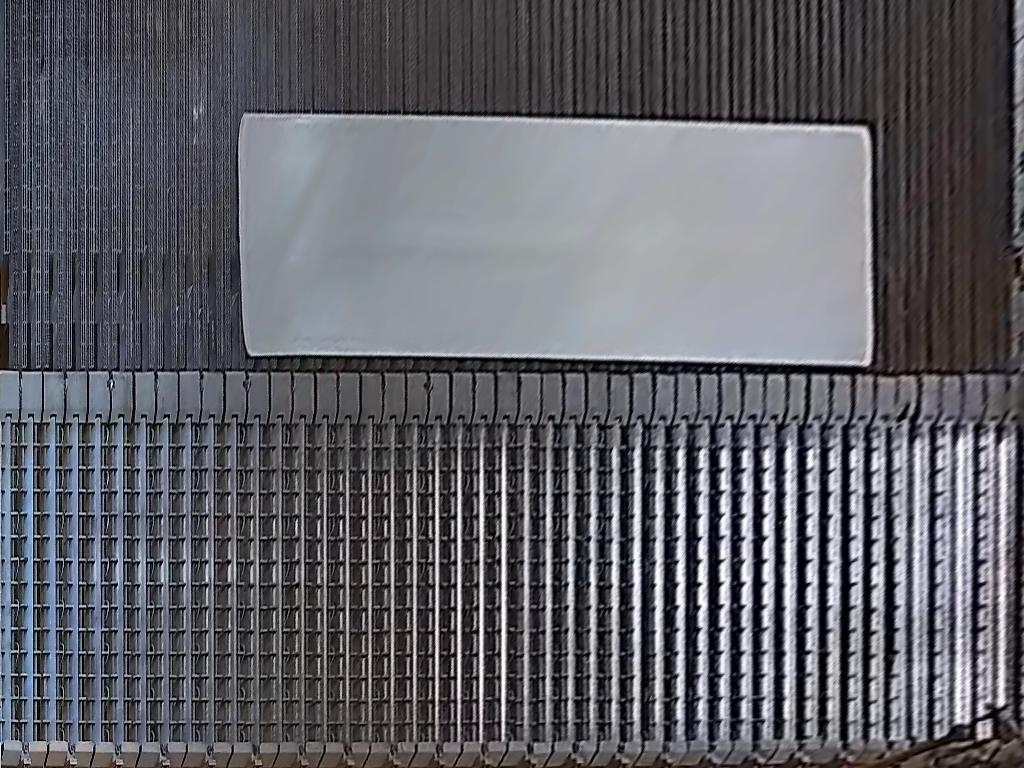steel: (237, 111, 875, 368)
